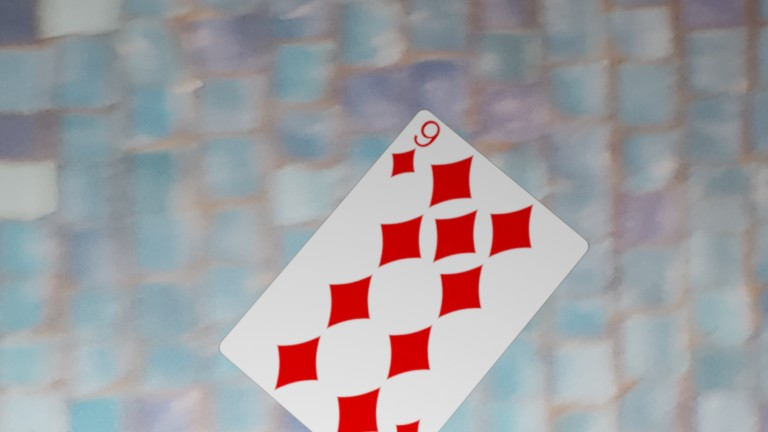9_of_diamonds: (375, 112, 453, 192), (356, 403, 436, 432)
